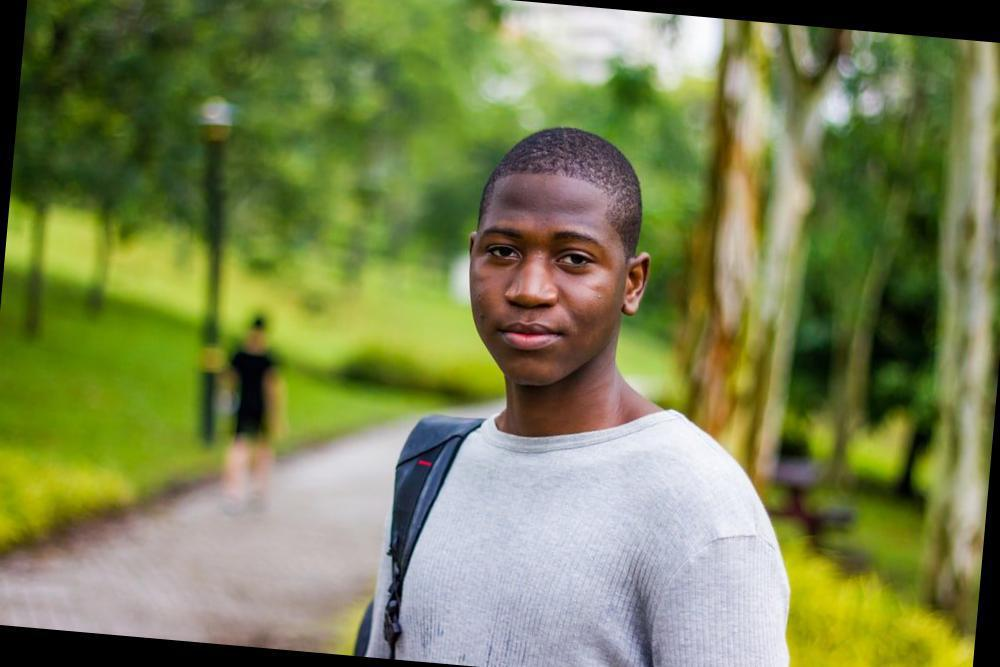Sober: (475, 175, 614, 387)
